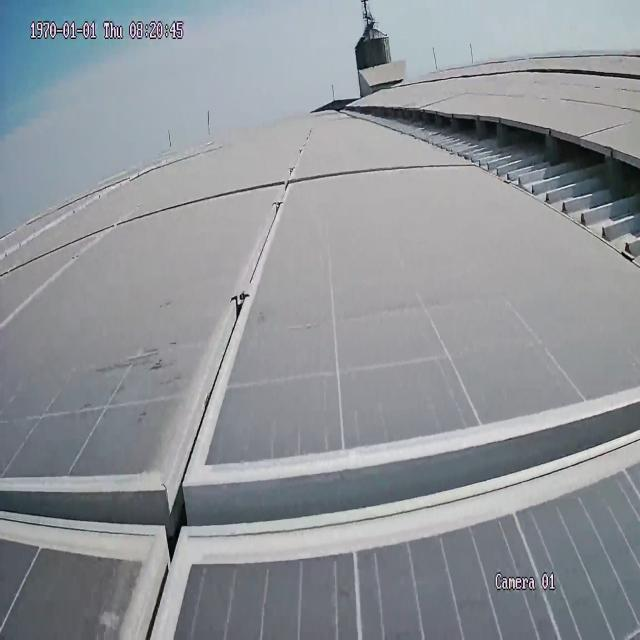interior panel: (0, 122, 640, 640)
outher panel: (330, 105, 640, 278)
